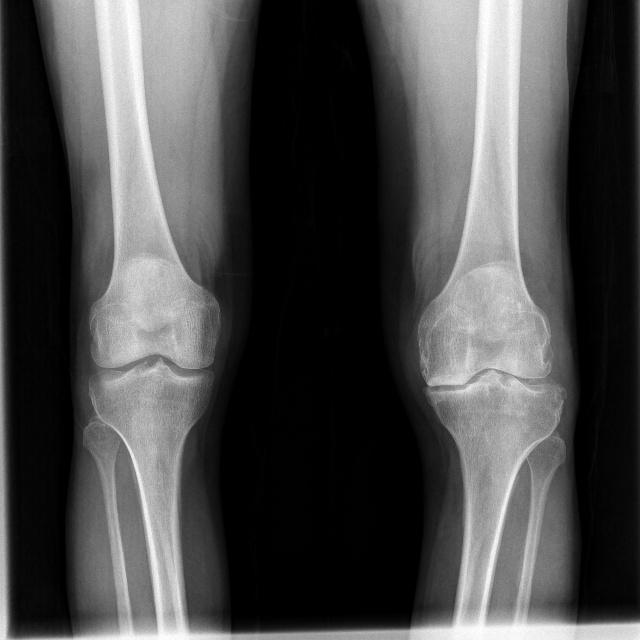Knee: (417, 333, 564, 435), (87, 310, 217, 417)
